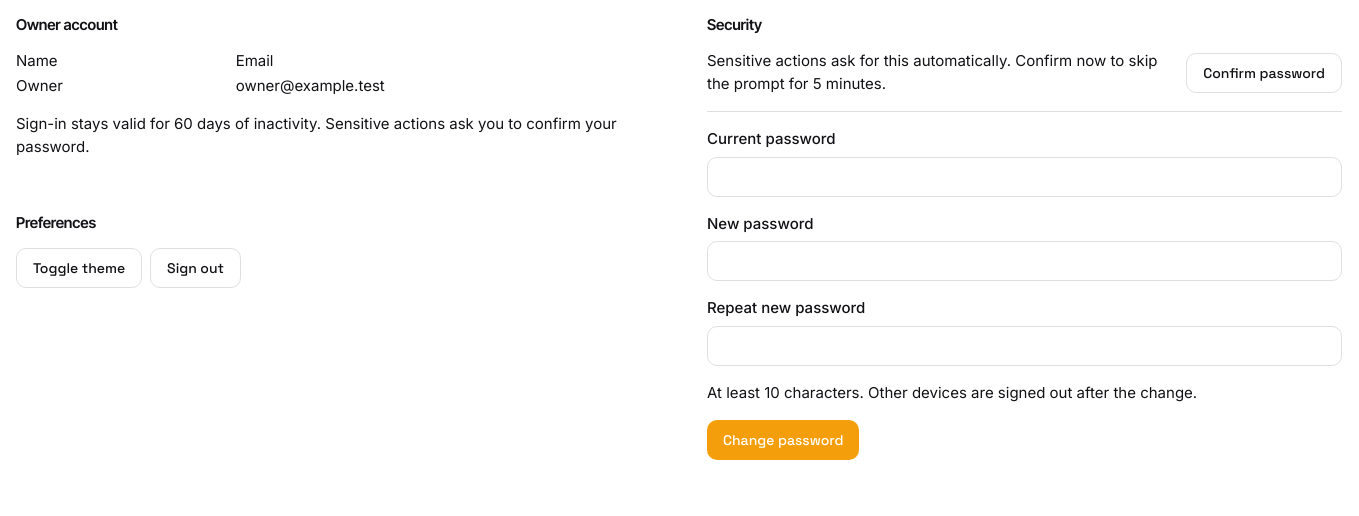
owner password settings › changes the password, signs out other devices and clears the form
Expected: the heading "Security" is shown, [707,16,762,34]
Type "old-password-1" into the password field labelled "Current password" at (1024, 176), box [707,156,1342,196]
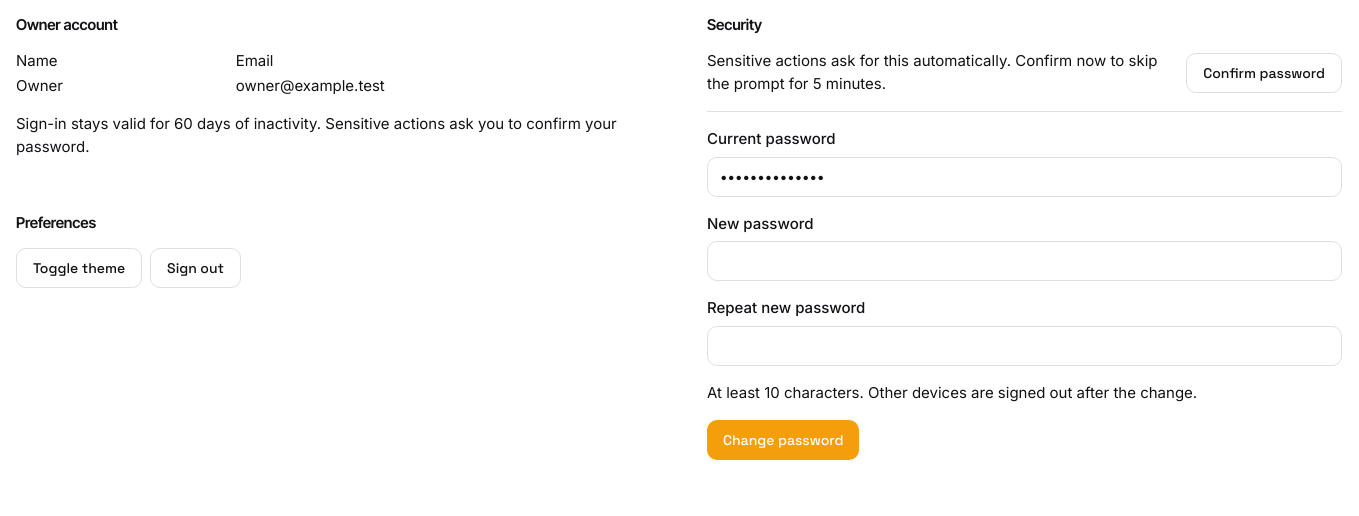
Type "new-password-1" into the password field labelled "New password" at (1024, 261), box [707,241,1342,281]
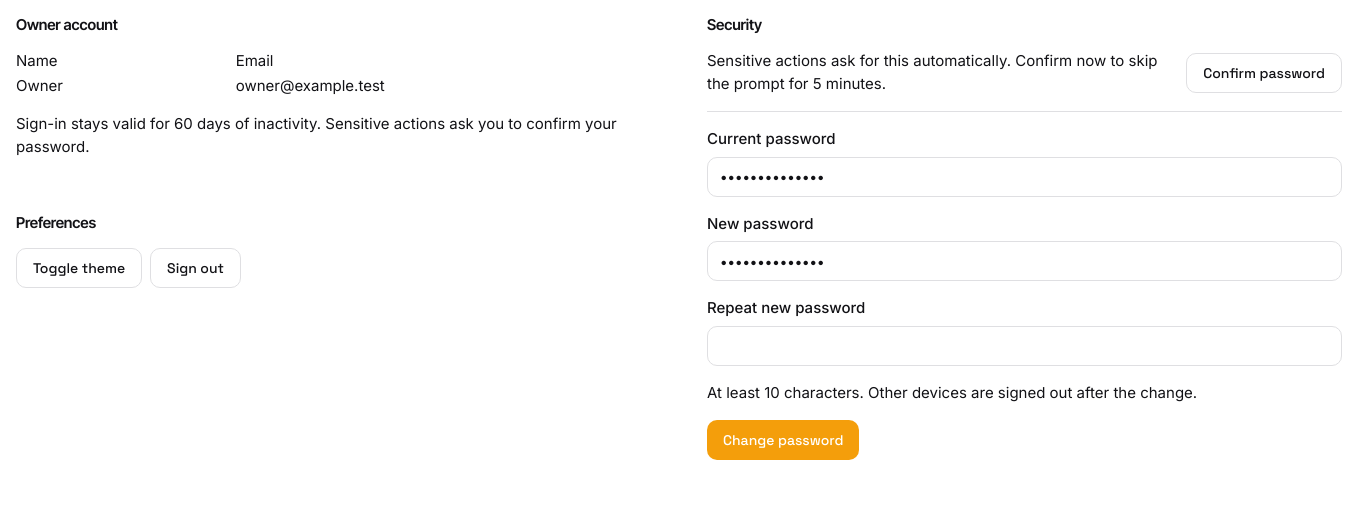
Type "new-password-1" into the password field labelled "Repeat new password" at (1024, 346), box [707,326,1342,366]
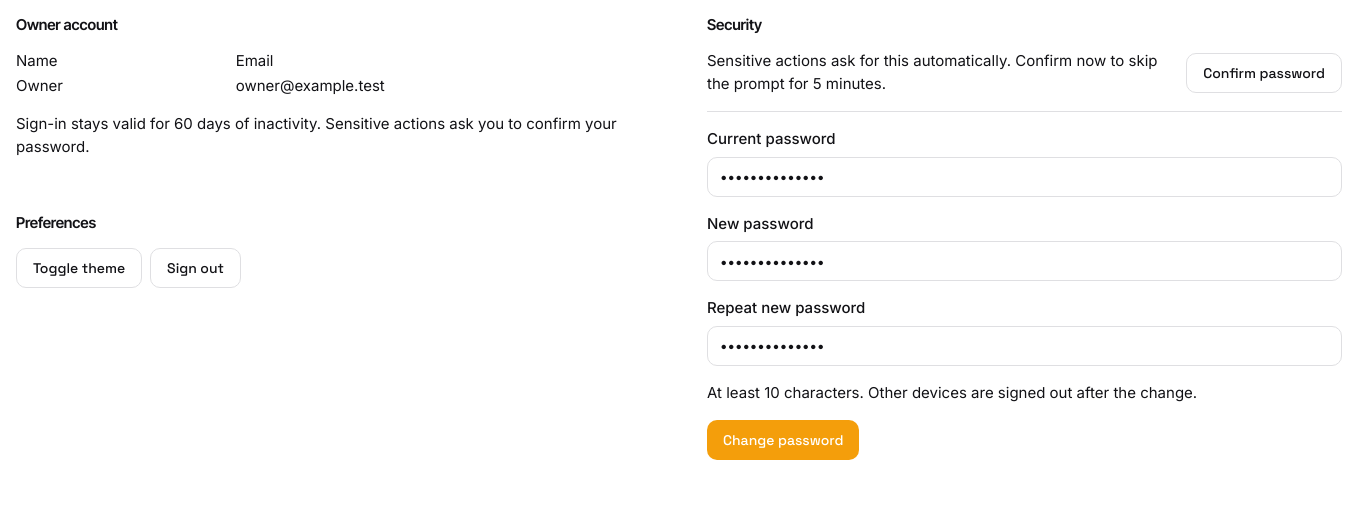
Click the button "Change password" at (783, 440), box [707,420,859,460]
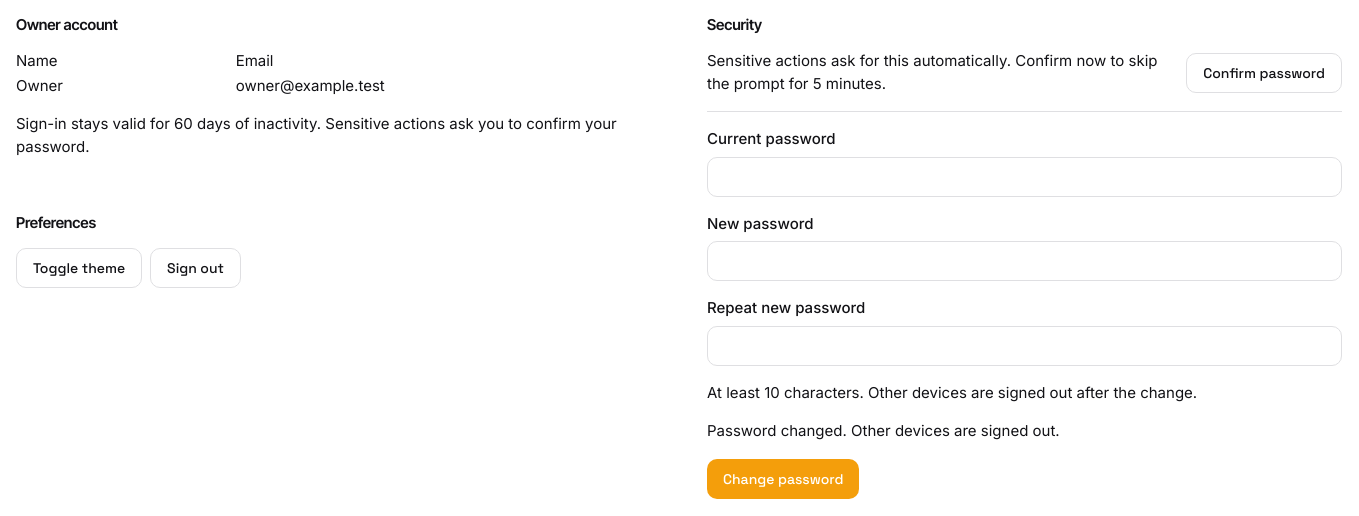
Expected: the message shows "Password changed", [707,421,1060,440]
Expected: the password field labelled "Current password" is empty, [707,156,1342,196]
Expected: the password field labelled "New password" is empty, [707,241,1342,281]
